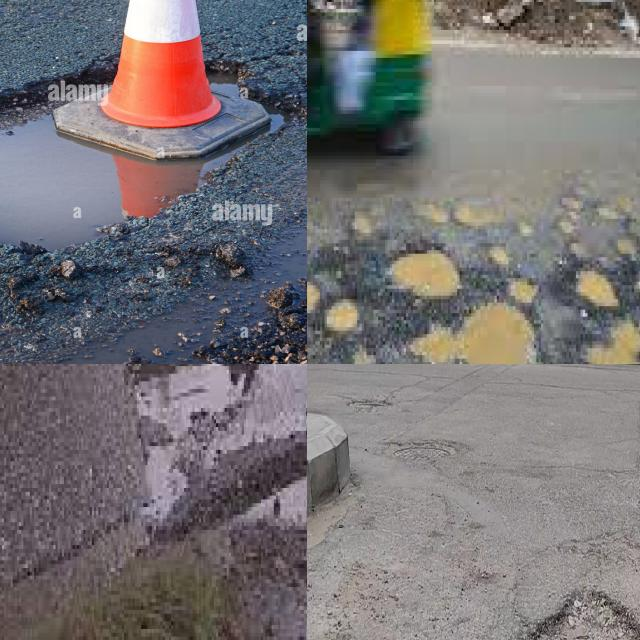Pothole: (0, 80, 274, 250), (133, 364, 256, 461), (534, 581, 640, 640), (392, 254, 457, 296), (462, 289, 520, 334), (518, 324, 542, 364), (590, 345, 638, 364)
